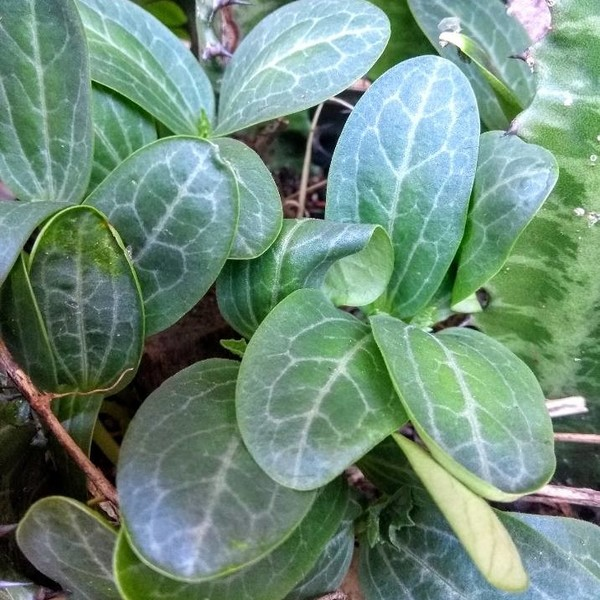obstacle: (21, 6, 560, 559)
